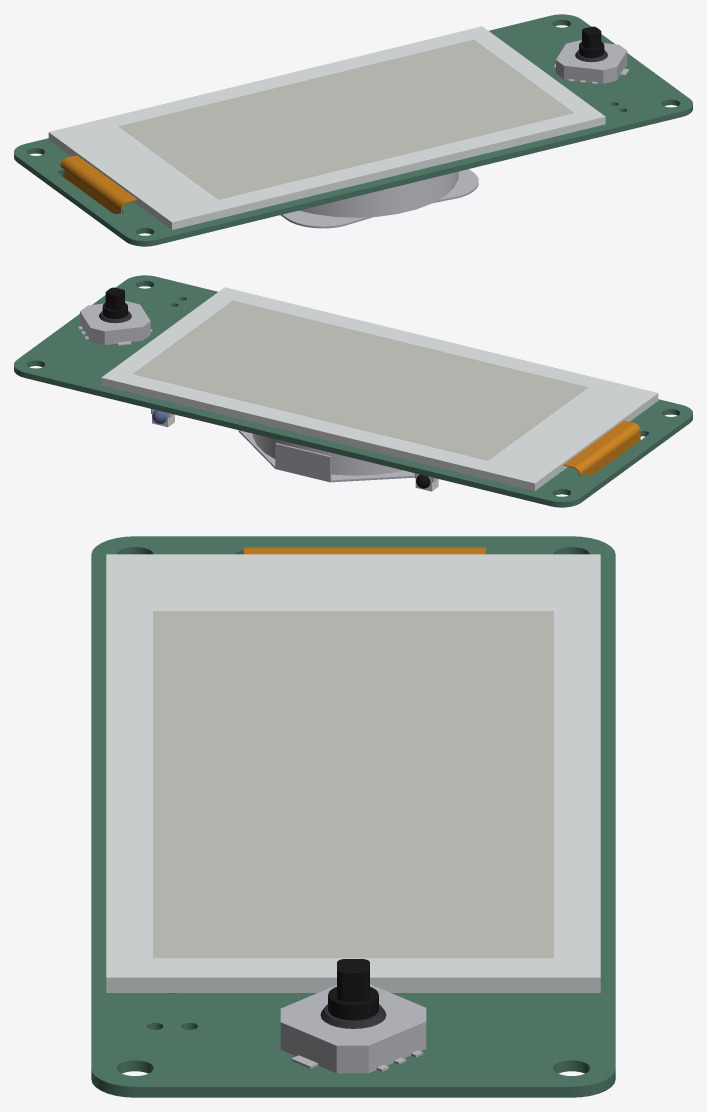
The model's file is irl2fa.glb.
The picture shows the model from 3 angles, top to bottom: view 1: azimuth 30°, elevation 25°; view 2: azimuth 150°, elevation 25°; view 3: azimuth 270°, elevation 25°; orthographic projection. The views are drawn at different scales.
Parts seen in each view (by area): view 1: EPD_GoodDisplay_GDEY0213B74_Outline_1, EPD_GoodDisplay_GDEY0213B74_Outline_0, =>[0:1:1:8], BatteryHolder_MYOUNG_MY-2450-01_CR2450_8, SW_Nav_Alps_SKRHABE010_0, EPD_GoodDisplay_GDEY0213B74_Outline_2, BatteryHolder_MYOUNG_MY-2450-01_CR2450_0, SW_Nav_Alps_SKRHABE010_3; view 2: EPD_GoodDisplay_GDEY0213B74_Outline_1, EPD_GoodDisplay_GDEY0213B74_Outline_0, =>[0:1:1:8], SW_Nav_Alps_SKRHABE010_0, EPD_GoodDisplay_GDEY0213B74_Outline_2, BatteryHolder_MYOUNG_MY-2450-01_CR2450_8, BatteryHolder_MYOUNG_MY-2450-01_CR2450_7, BatteryHolder_MYOUNG_MY-2450-01_CR2450_0, SW_Nav_Alps_SKRHABE010_3; view 3: EPD_GoodDisplay_GDEY0213B74_Outline_1, EPD_GoodDisplay_GDEY0213B74_Outline_0, =>[0:1:1:8], SW_Nav_Alps_SKRHABE010_0, EPD_GoodDisplay_GDEY0213B74_Outline_2, SW_Nav_Alps_SKRHABE010_3, SW_Nav_Alps_SKRHABE010_2.
Part boxes in pixels (x1=…): EPD_GoodDisplay_GDEY0213B74_Outline_1: x1=119, y1=39, x2=573, y2=199; EPD_GoodDisplay_GDEY0213B74_Outline_0: x1=48, y1=26, x2=605, y2=229; =>[0:1:1:8]: x1=14, y1=14, x2=692, y2=246; BatteryHolder_MYOUNG_MY-2450-01_CR2450_8: x1=299, y1=171, x2=458, y2=217; SW_Nav_Alps_SKRHABE010_0: x1=556, y1=40, x2=627, y2=83; EPD_GoodDisplay_GDEY0213B74_Outline_2: x1=60, y1=155, x2=137, y2=213; BatteryHolder_MYOUNG_MY-2450-01_CR2450_0: x1=280, y1=169, x2=478, y2=228; SW_Nav_Alps_SKRHABE010_3: x1=582, y1=26, x2=601, y2=49; EPD_GoodDisplay_GDEY0213B74_Outline_1: x1=133, y1=300, x2=587, y2=460; EPD_GoodDisplay_GDEY0213B74_Outline_0: x1=101, y1=287, x2=658, y2=490; =>[0:1:1:8]: x1=14, y1=275, x2=692, y2=507; SW_Nav_Alps_SKRHABE010_0: x1=80, y1=301, x2=150, y2=344; EPD_GoodDisplay_GDEY0213B74_Outline_2: x1=563, y1=420, x2=640, y2=476; BatteryHolder_MYOUNG_MY-2450-01_CR2450_8: x1=252, y1=433, x2=403, y2=475; BatteryHolder_MYOUNG_MY-2450-01_CR2450_7: x1=275, y1=443, x2=331, y2=481; BatteryHolder_MYOUNG_MY-2450-01_CR2450_0: x1=238, y1=430, x2=414, y2=482; SW_Nav_Alps_SKRHABE010_3: x1=105, y1=287, x2=124, y2=310; EPD_GoodDisplay_GDEY0213B74_Outline_1: x1=153, y1=611, x2=553, y2=958; EPD_GoodDisplay_GDEY0213B74_Outline_0: x1=106, y1=554, x2=600, y2=992; =>[0:1:1:8]: x1=91, y1=536, x2=615, y2=1097; SW_Nav_Alps_SKRHABE010_0: x1=280, y1=984, x2=426, y2=1073; EPD_GoodDisplay_GDEY0213B74_Outline_2: x1=244, y1=547, x2=485, y2=554; SW_Nav_Alps_SKRHABE010_3: x1=337, y1=959, x2=369, y2=1001; SW_Nav_Alps_SKRHABE010_2: x1=328, y1=987, x2=378, y2=1020.
Size of the model in its own units: 0.077 by 0.0116 by 0.031.
